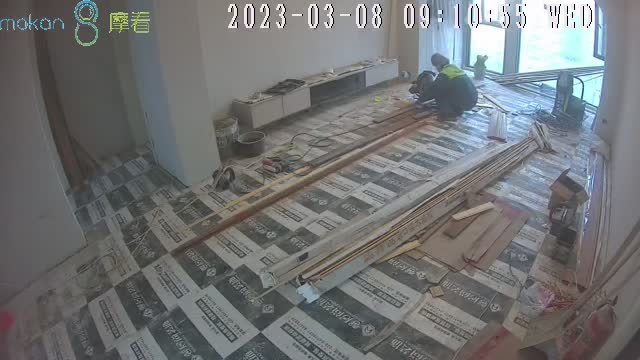people: (419, 52, 477, 118)
window: (468, 1, 604, 107)
